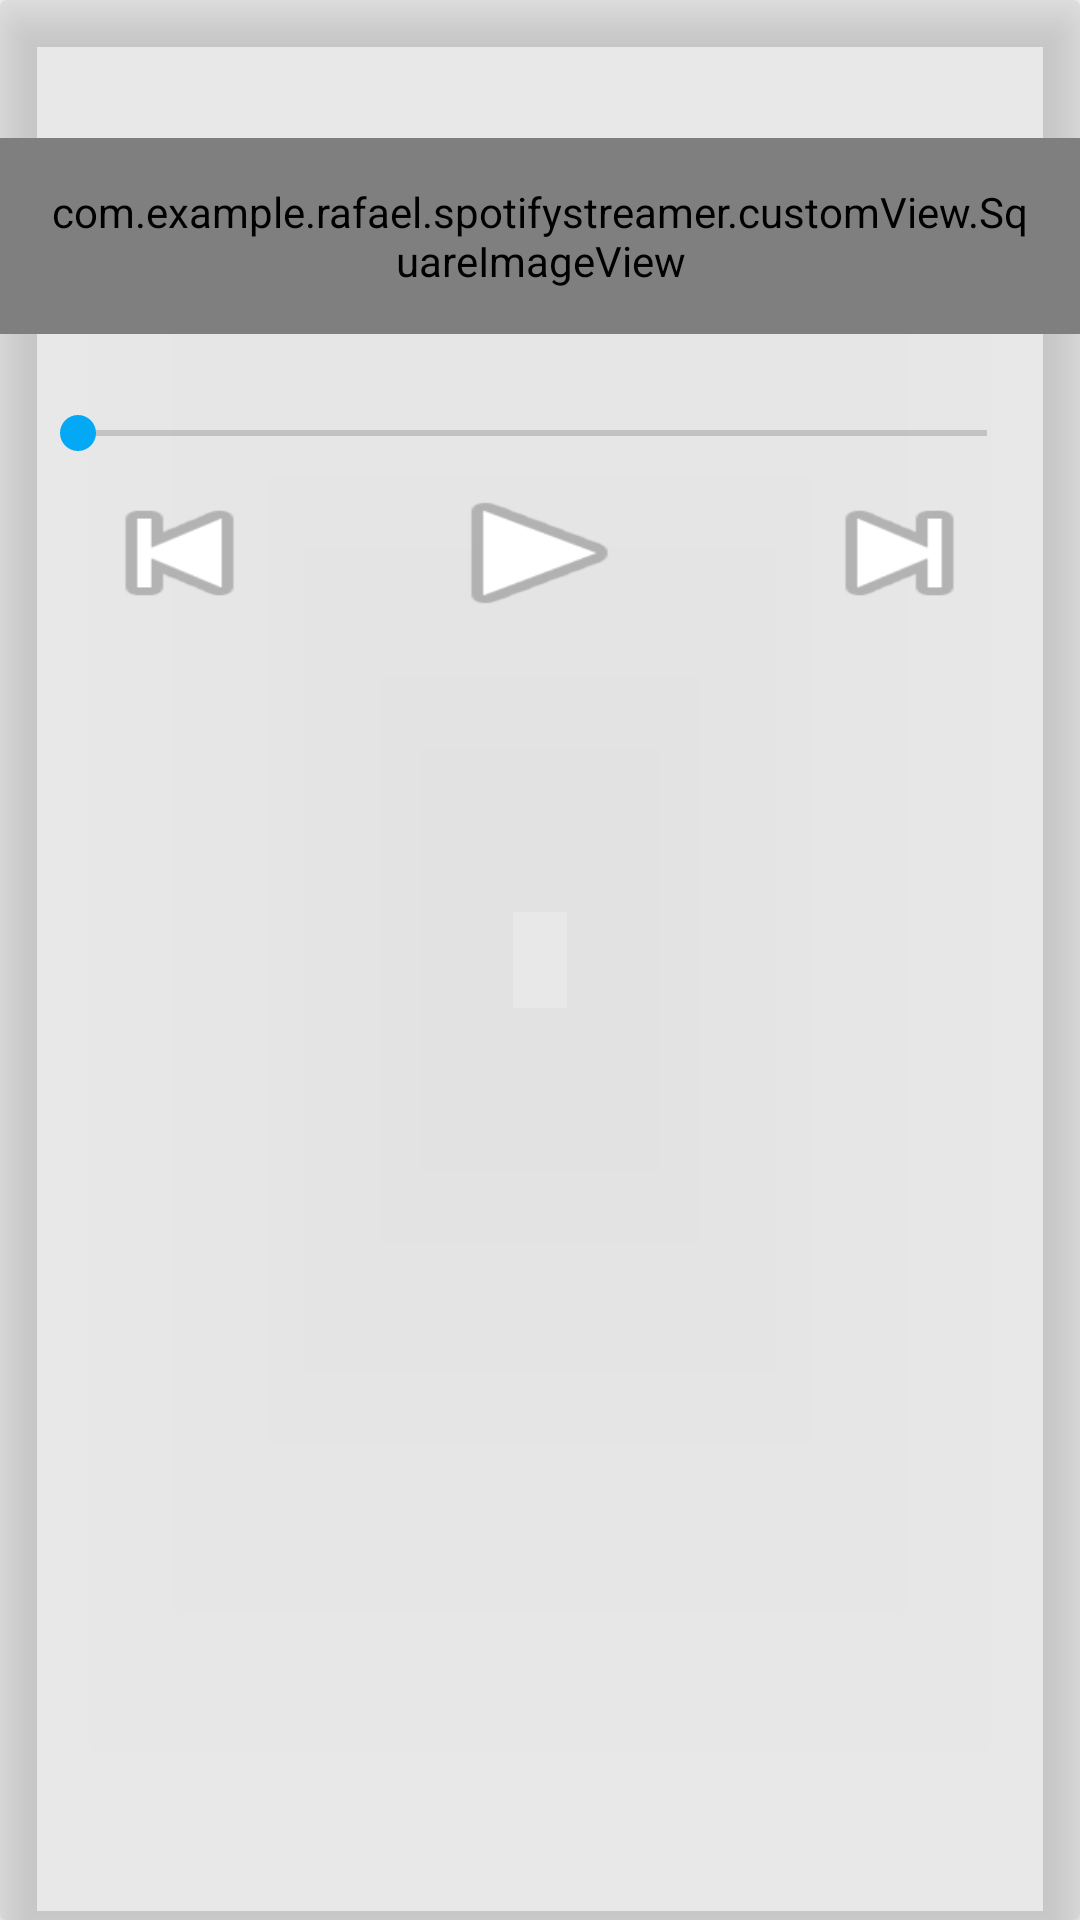

Screen size 1080x1920. Icon name, then its box in pixels as bbox=(x1, y1, x2, y2):
next: bbox=(846, 511, 953, 595)
play: bbox=(471, 503, 608, 603)
previous: bbox=(126, 511, 233, 595)
